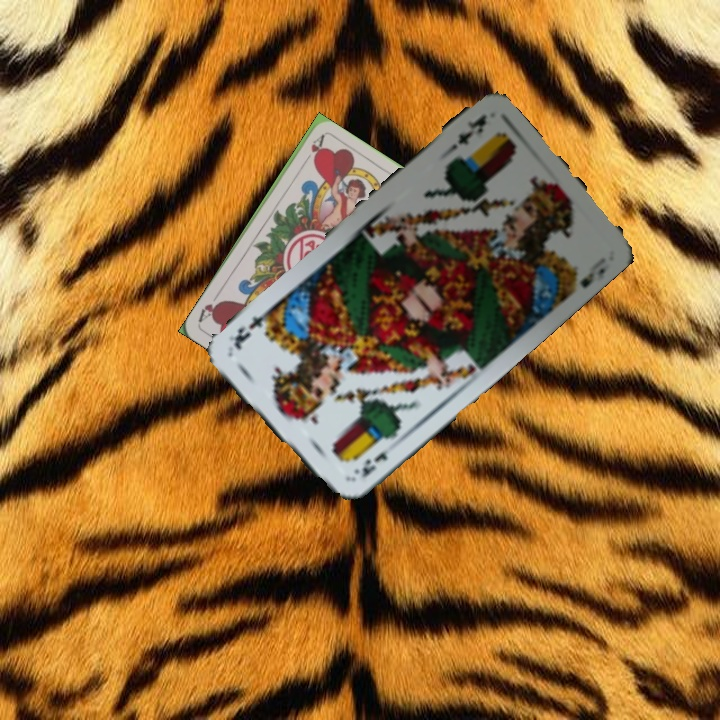EK: (442, 110, 489, 157), (349, 447, 390, 480)
HA: (298, 132, 326, 168)
